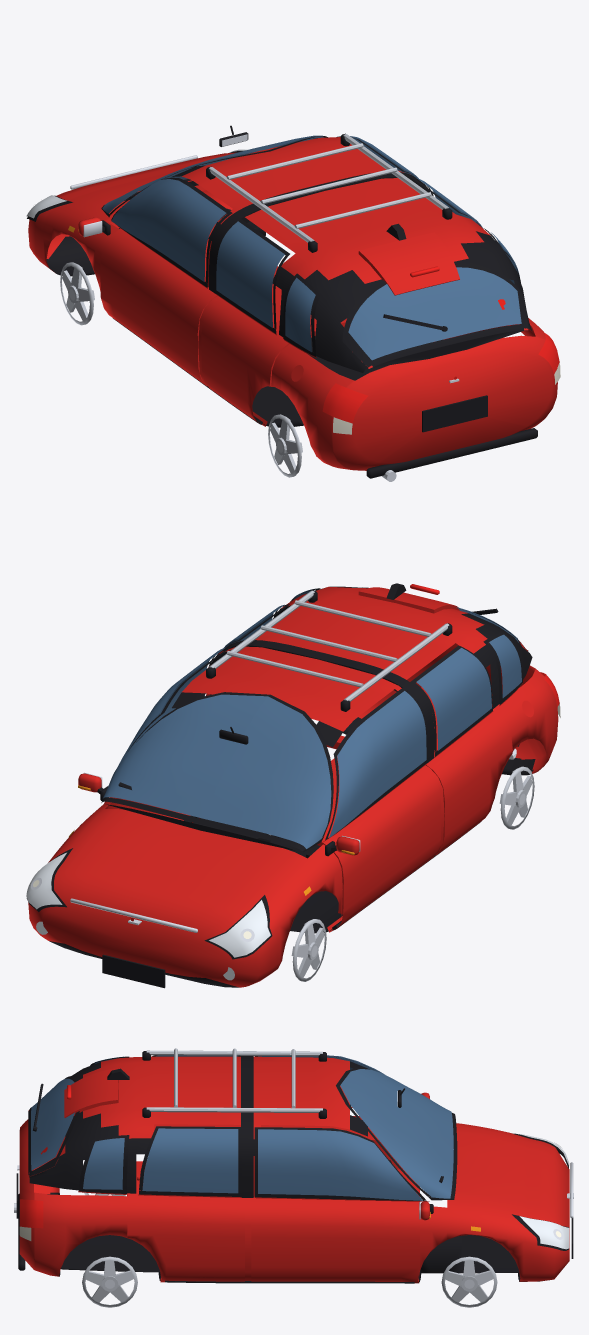
The model's file is veh_iriz.fbx.
3 views of the same model, one above another, from view 1: azimuth 30°, elevation 25°; view 2: azimuth 150°, elevation 25°; view 3: azimuth 270°, elevation 25° (orthographic). The views are drawn at different scales.
Visible parts, largest first — view 1: Body, Detail, Glass, Door_FL, Door_RL, Door_FL_Glass, Door_RL_Glass, Var_Rack_a_Roof, BrakeLights, Rim_FL, Rim_RL; view 2: Body, Glass, Door_FL, Detail, Door_FL_Glass, Door_RL, Door_RL_Glass, Var_Rack_a_Roof, HeadLights, Rim_RL, Rim_FL, Door_FR_Glass (+1 smaller); view 3: Body, Door_FR, Glass, Door_RR, Door_FR_Glass, Detail, Door_RR_Glass, Var_Rack_a_Roof, Rim_RR, Rim_FR, HeadLights, BrakeLights (+1 smaller).
Part boxes in pixels (bbox=[...]): Body: bbox=[28, 137, 557, 470]; Detail: bbox=[27, 125, 537, 481]; Glass: bbox=[102, 135, 521, 360]; Door_FL: bbox=[100, 177, 277, 386]; Door_RL: bbox=[201, 218, 353, 426]; Door_FL_Glass: bbox=[111, 179, 226, 281]; Door_RL_Glass: bbox=[216, 221, 284, 327]; Var_Rack_a_Roof: bbox=[206, 133, 452, 252]; BrakeLights: bbox=[322, 266, 559, 423]; Rim_FL: bbox=[60, 262, 94, 325]; Rim_RL: bbox=[268, 414, 302, 477]; Body: bbox=[28, 586, 558, 987]; Glass: bbox=[103, 588, 521, 848]; Door_FL: bbox=[317, 688, 441, 932]; Detail: bbox=[26, 583, 533, 988]; Door_FL_Glass: bbox=[329, 691, 426, 838]; Door_RL: bbox=[410, 645, 512, 855]; Door_RL_Glass: bbox=[416, 648, 491, 750]; Var_Rack_a_Roof: bbox=[206, 590, 452, 711]; HeadLights: bbox=[26, 852, 270, 957]; Rim_RL: bbox=[499, 766, 534, 829]; Rim_FL: bbox=[291, 919, 326, 981]; Door_FR_Glass: bbox=[118, 647, 225, 765]; Body: bbox=[19, 1056, 569, 1282]; Door_FR: bbox=[251, 1127, 429, 1283]; Glass: bbox=[31, 1056, 453, 1198]; Door_RR: bbox=[127, 1126, 244, 1282]; Door_FR_Glass: bbox=[258, 1129, 422, 1200]; Detail: bbox=[14, 1056, 573, 1283]; Door_RR_Glass: bbox=[142, 1128, 238, 1193]; Var_Rack_a_Roof: bbox=[142, 1048, 326, 1118]; Rim_RR: bbox=[82, 1256, 137, 1307]; Rim_FR: bbox=[441, 1256, 497, 1307]; HeadLights: bbox=[519, 1134, 569, 1249]; BrakeLights: bbox=[20, 1085, 71, 1228].
Size of what is drawn, in the model's own units: 1.98 by 1.59 by 3.98.
1 material, 1 textured.
